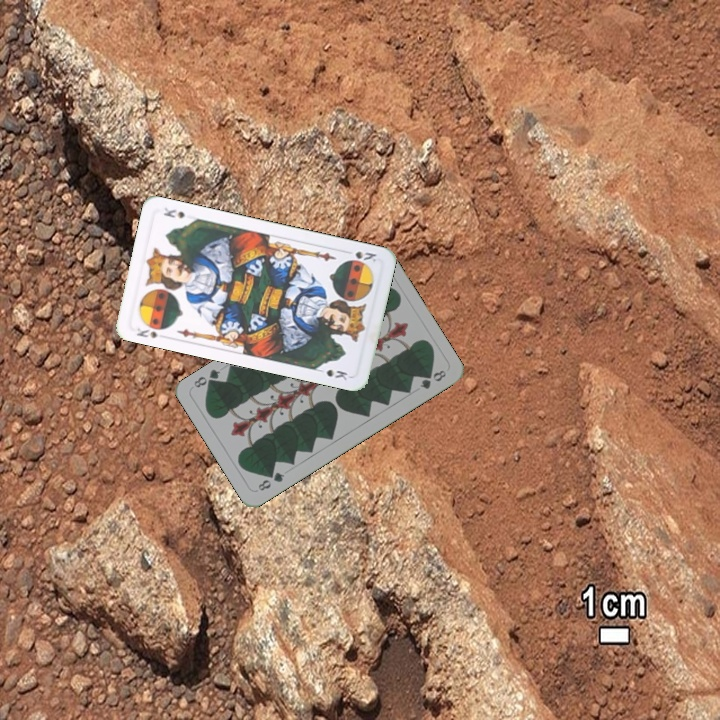G8: (254, 468, 287, 493)
SK: (340, 246, 379, 265), (132, 324, 160, 341)
